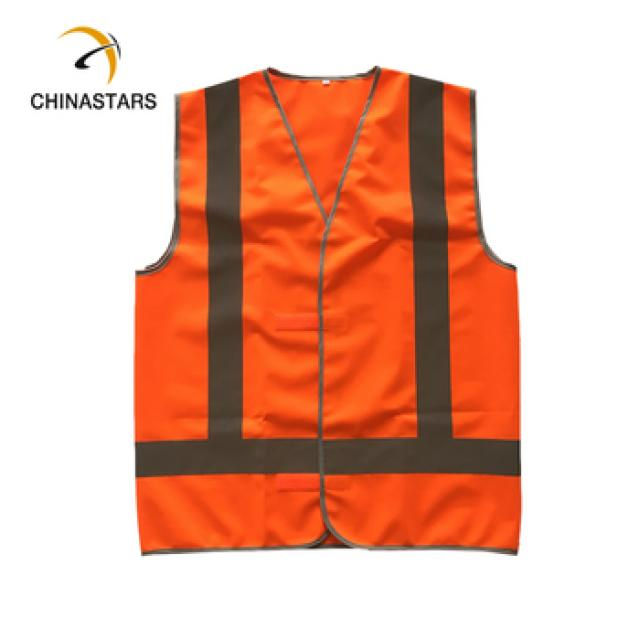Reflective-Jacket: (120, 42, 538, 571)
